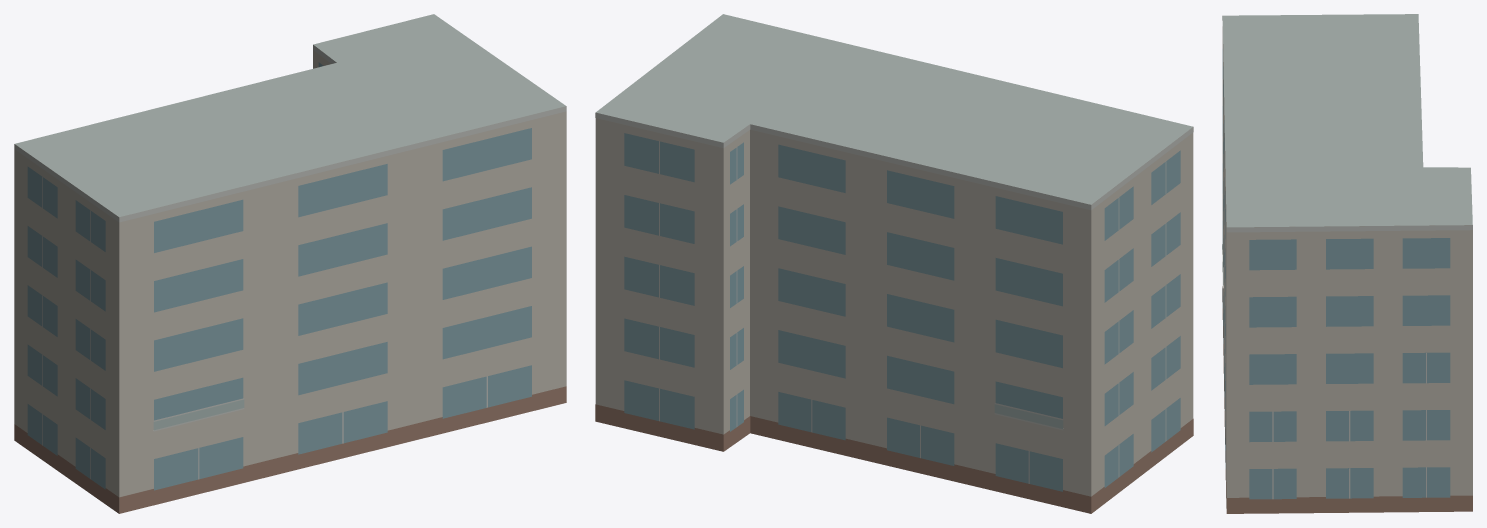
File: survey-upis-32819405.glb
The picture shows the model from 3 angles, left to right: view 1: azimuth 30°, elevation 25°; view 2: azimuth 150°, elevation 25°; view 3: azimuth 270°, elevation 25°; orthographic projection. The views are drawn at different scales.
Visible parts, largest first — view 1: survey-upis-32819405.tmp; view 2: survey-upis-32819405.tmp; view 3: survey-upis-32819405.tmp.
Boxes of the visible parts, <box> form: survey-upis-32819405.tmp: <box>14,14,566,513</box>; survey-upis-32819405.tmp: <box>595,14,1193,513</box>; survey-upis-32819405.tmp: <box>1222,14,1472,513</box>.
Size of the model in its own units: 21.97 by 13.75 by 10.92.
